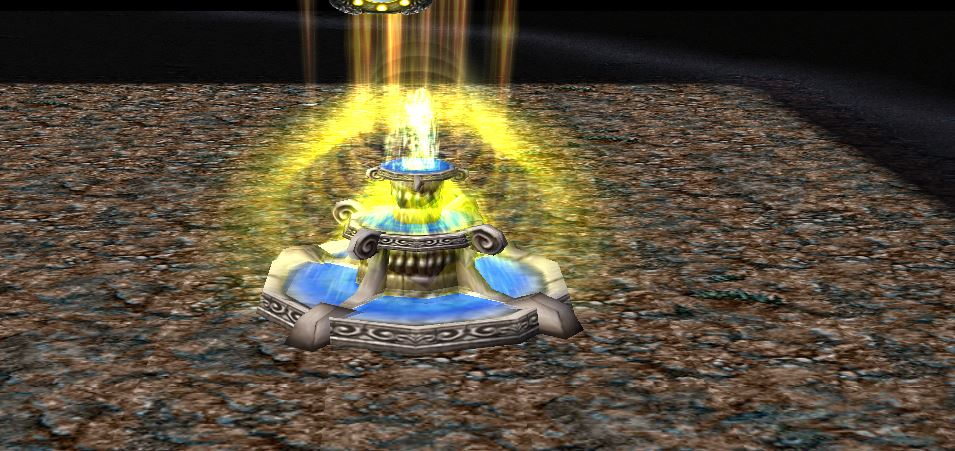sunwell: (256, 120, 590, 351)
